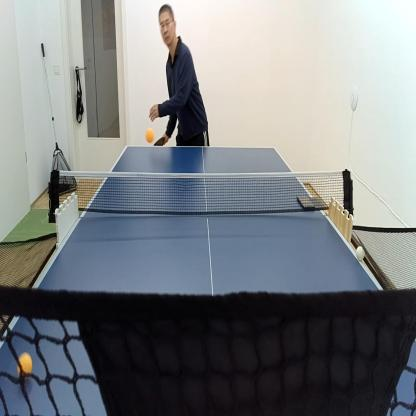Ball: (17, 350, 33, 380), (356, 243, 366, 263), (146, 127, 154, 144)
